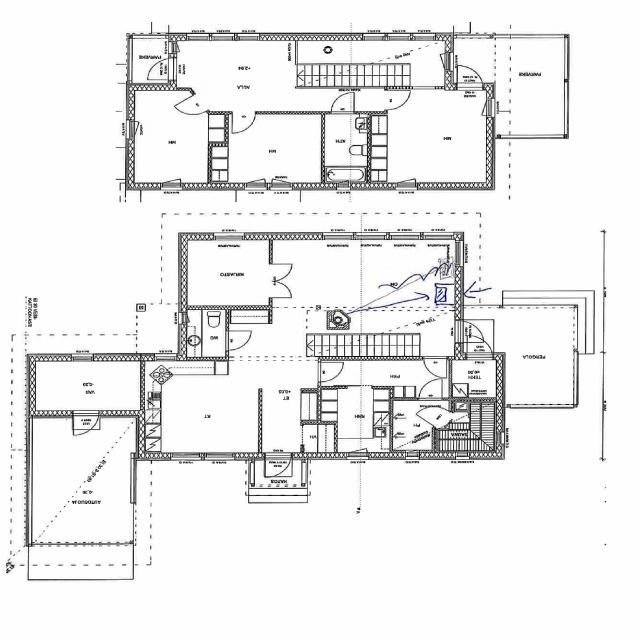door: (418, 398, 452, 428), (175, 93, 208, 121), (454, 321, 490, 343), (73, 410, 99, 440), (265, 453, 291, 482), (467, 330, 492, 360), (457, 60, 482, 90), (144, 58, 176, 80), (330, 91, 354, 114), (232, 111, 255, 134), (418, 378, 442, 400), (424, 356, 446, 379), (318, 362, 344, 381), (384, 91, 410, 110), (225, 331, 250, 350), (268, 263, 292, 281), (268, 281, 292, 298)
